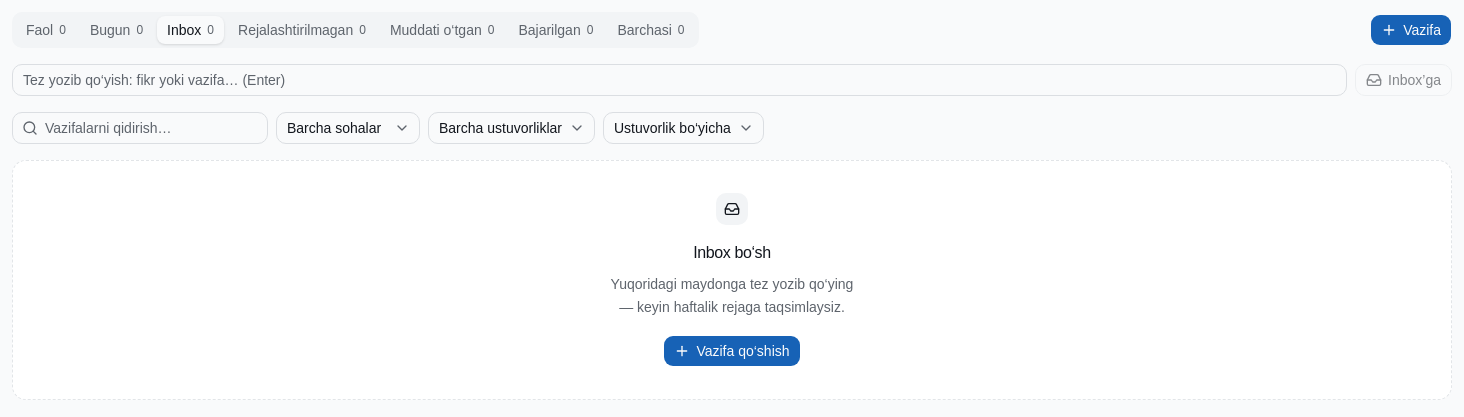
Test: TasksPage › captures a task into the inbox and lets the user complete it
Type "Docker sozlash" into the field named "Inbox’ga yangi vazifa" at (680, 80), box [12, 64, 1347, 96]
Then press Enter
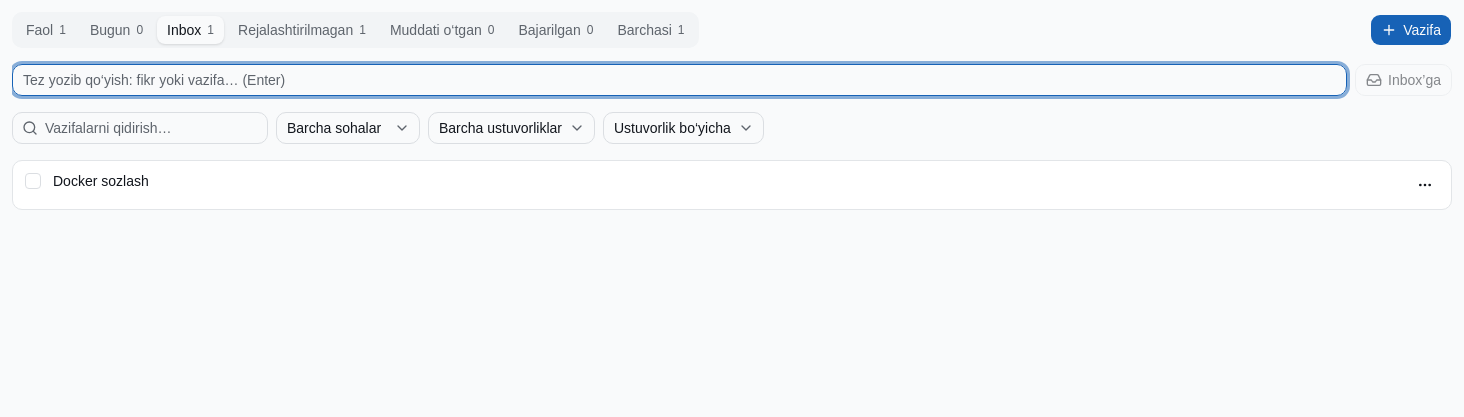
Expected: the button "Docker sozlash" is shown, [53, 171, 149, 191]
Click the checkbox named "bajarilgan deb belgilash" at (33, 181), box [25, 173, 41, 189]
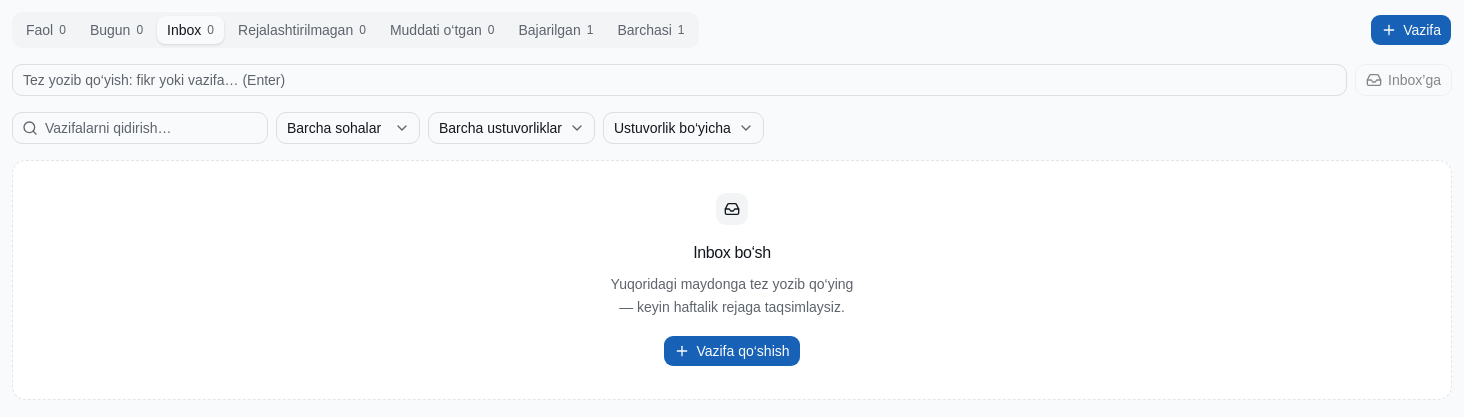
Expected: the button "Docker sozlash" is gone
